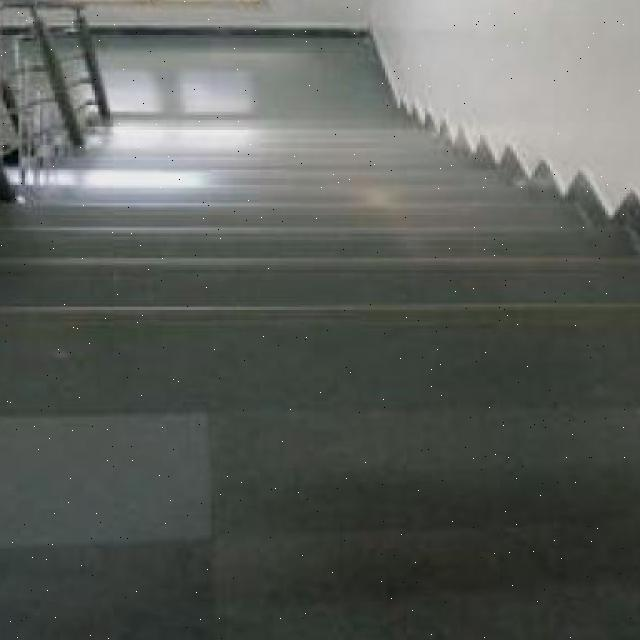stair: (28, 140, 612, 360)
